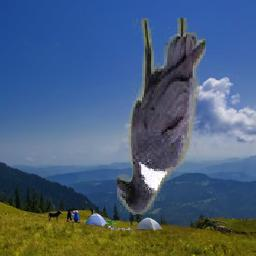Crow: (118, 19, 207, 216)
